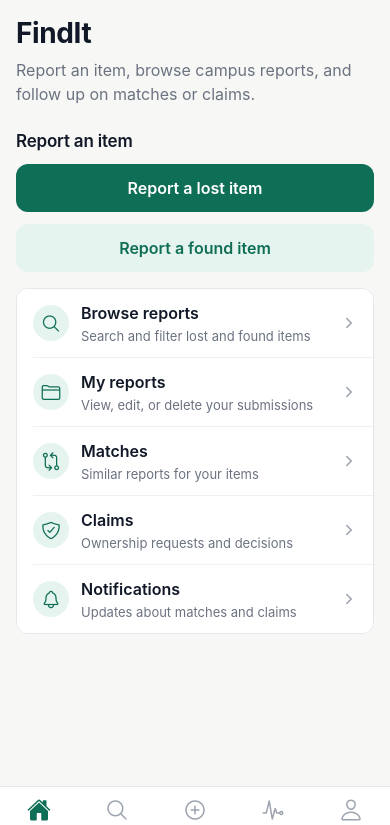
Test: offers a retry when related matches fail rather than showing a false empty result
Click the button "Browse reports".
click(195, 323)  # box [17, 289, 373, 357]
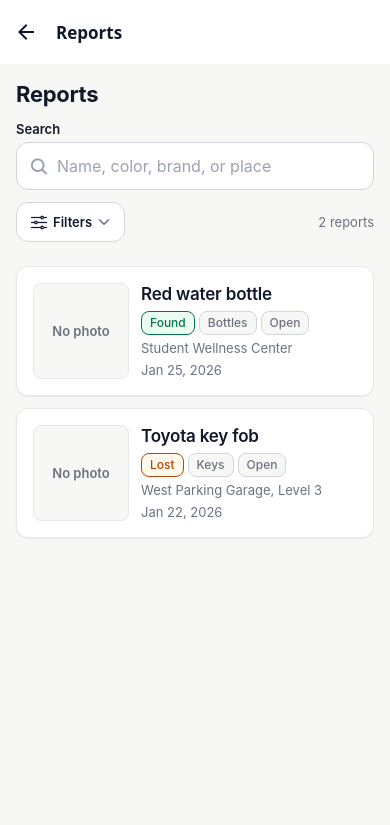
Click the button "Toyota key fob".
click(195, 473)  # box [17, 409, 373, 537]
(page scrolled)
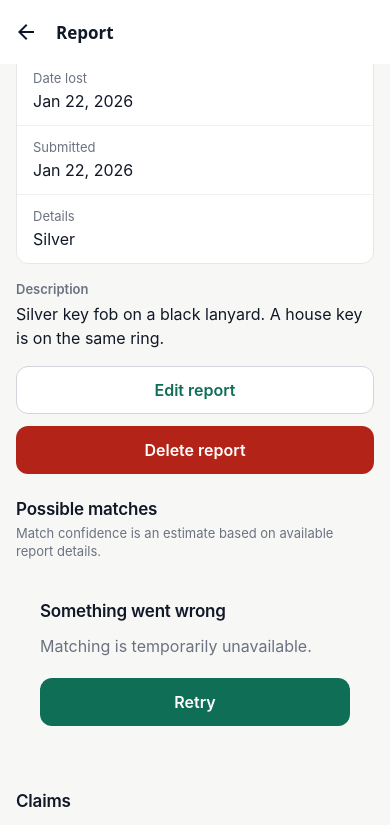
expect the text "No similar reports are available for this item yet." is not shown: met
expect the text "Matching is temporarily unavailable." is shown: met, box [40, 634, 350, 658]
Click the button "Retry".
click(195, 702)  # box [40, 678, 350, 726]
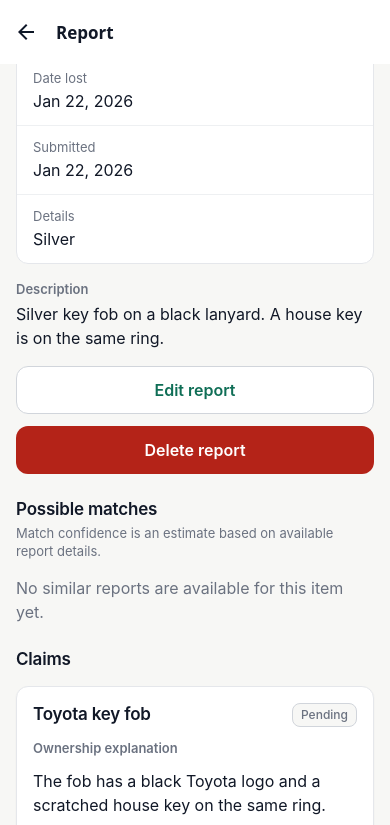
expect the text "No similar reports are available for this item yet." is shown: met, box [16, 576, 374, 624]
expect the text "Matching is temporarily unavailable." is gone: met
